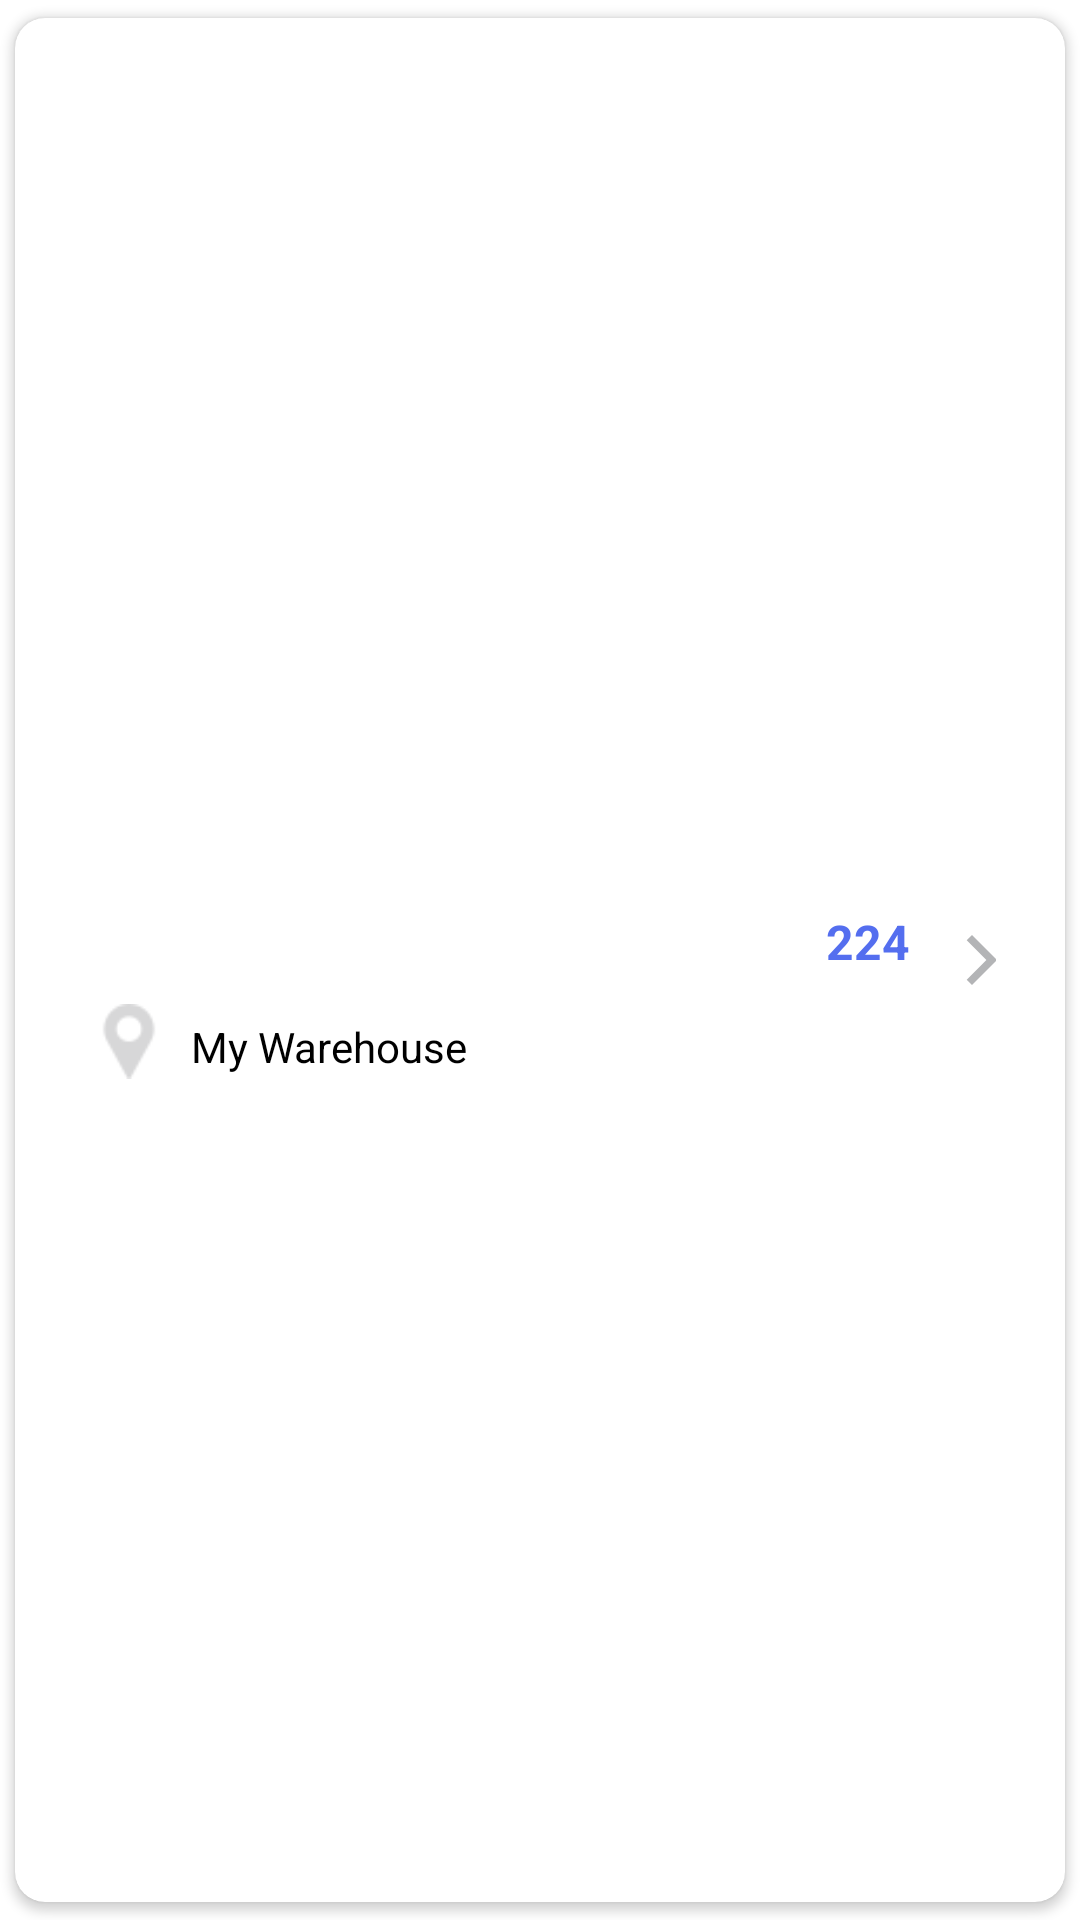

Where icons sit on this 1080px×1920px app screen, as (x1,y1,x2,y2):
arrow forward: (967,935,996,985)
location: (104,1004,154,1079)
